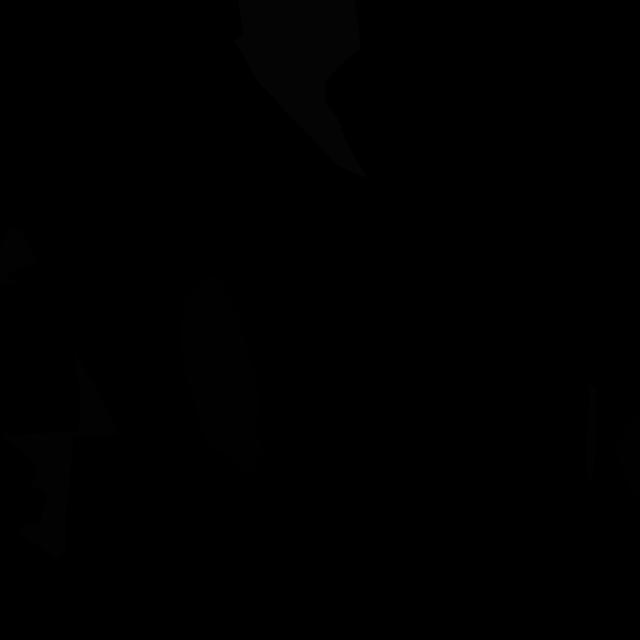cardboard: (0, 354, 118, 560), (0, 229, 38, 284), (586, 383, 596, 484)
rigid_plastic: (180, 276, 265, 477), (614, 406, 640, 513)
soft_plastic: (234, 0, 368, 179)
